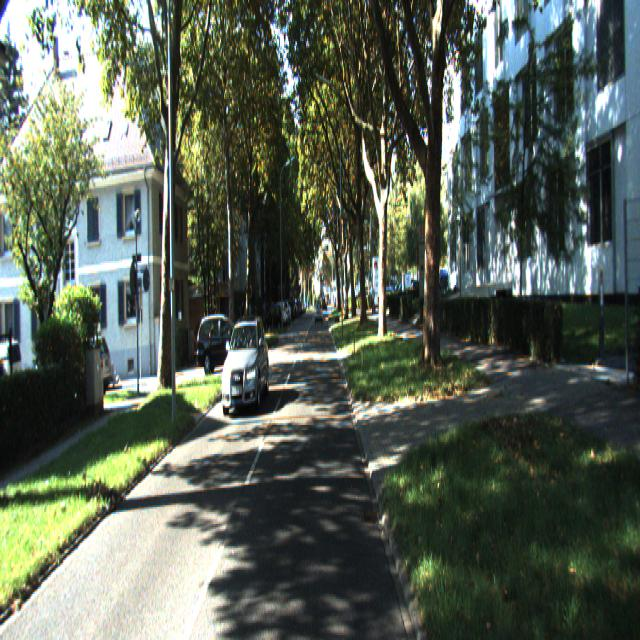Car: (221, 321, 269, 418), (198, 312, 252, 371)
